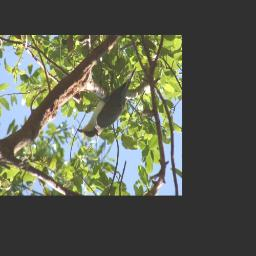Cuckoo: (75, 66, 136, 138)
